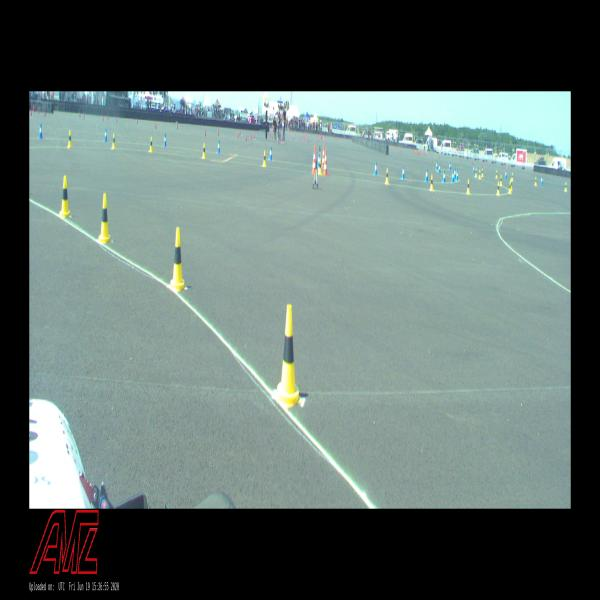blue_cone: (39, 123, 42, 138), (317, 153, 320, 167), (374, 162, 377, 175), (425, 169, 428, 182), (104, 128, 107, 141), (217, 140, 220, 153), (269, 147, 272, 160), (164, 134, 167, 146), (540, 176, 543, 185), (438, 164, 441, 173), (402, 166, 404, 179), (443, 170, 445, 183), (452, 170, 454, 182), (454, 168, 456, 179), (472, 166, 475, 173), (456, 170, 458, 180), (436, 161, 438, 170), (449, 162, 451, 170), (505, 170, 507, 178)
large_orange_cone: (323, 150, 328, 176), (312, 151, 316, 174), (322, 146, 324, 168), (314, 145, 316, 162)
yellow_cone: (275, 305, 302, 408), (170, 227, 186, 291), (99, 193, 111, 243), (59, 176, 71, 217), (67, 130, 72, 148), (385, 168, 389, 184), (150, 136, 154, 152), (466, 178, 470, 194), (112, 133, 116, 149), (202, 143, 206, 158), (496, 181, 500, 195), (430, 174, 433, 191), (508, 181, 512, 193), (263, 151, 266, 166), (318, 159, 321, 174), (499, 174, 502, 186), (564, 182, 567, 191), (478, 169, 481, 178), (475, 168, 477, 177), (482, 168, 484, 177), (496, 170, 498, 178), (534, 177, 536, 185), (511, 179, 512, 190), (512, 173, 513, 180)
